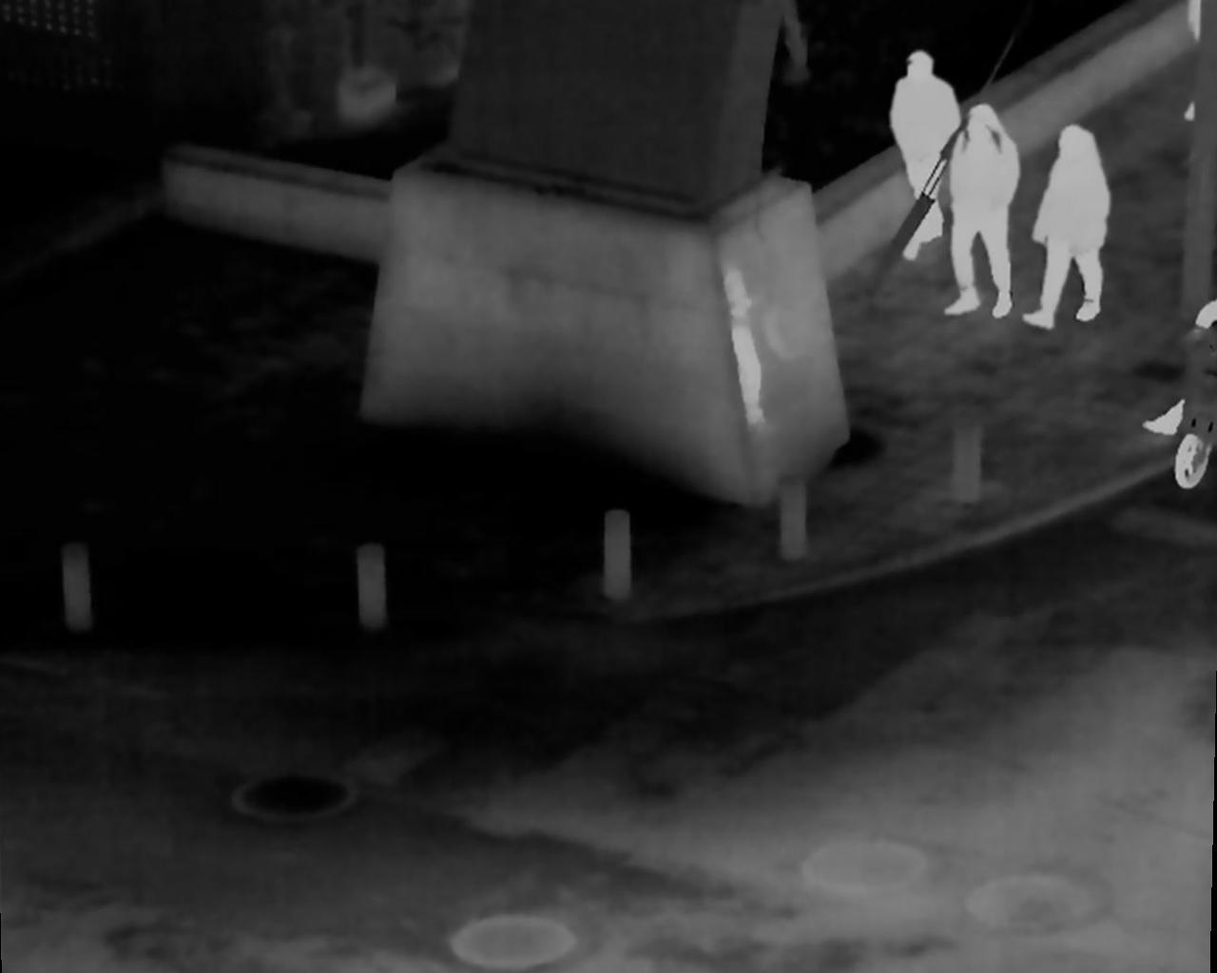person: (1019, 126, 1109, 329), (947, 104, 1021, 315), (890, 54, 964, 261)
